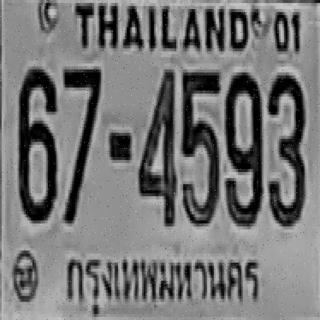N03: (266, 71, 304, 222)
N04: (137, 65, 175, 222)
N05: (180, 68, 219, 222)
N06: (17, 65, 55, 219)
N07: (62, 64, 100, 220)
N09: (224, 68, 262, 222)
P04: (55, 238, 262, 320)
